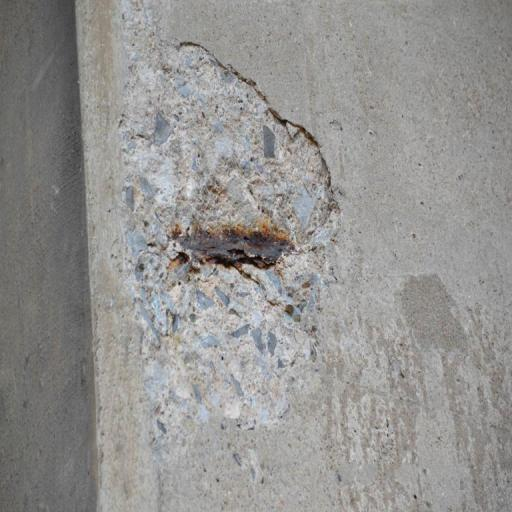spalling: (119, 41, 343, 460)
